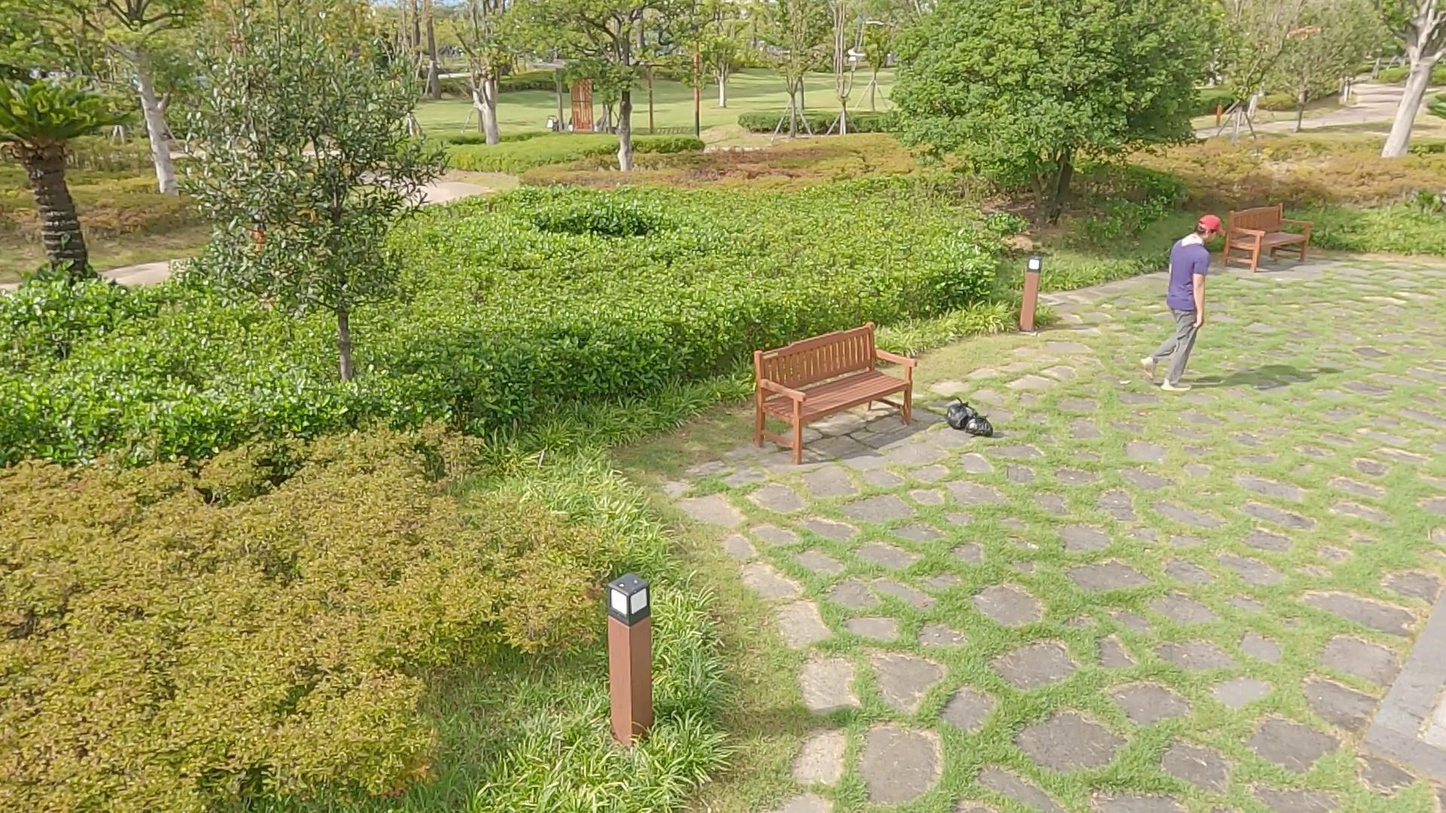person: (1139, 214, 1228, 393)
trash: (946, 395, 978, 429), (967, 406, 993, 437)
